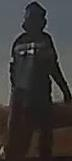gloves: (60, 87, 72, 107)
vest: (11, 30, 58, 106)
